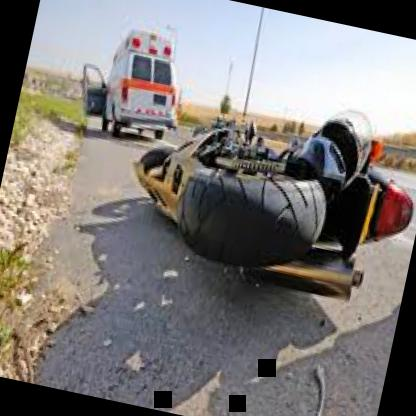accident: (102, 62, 416, 369)
